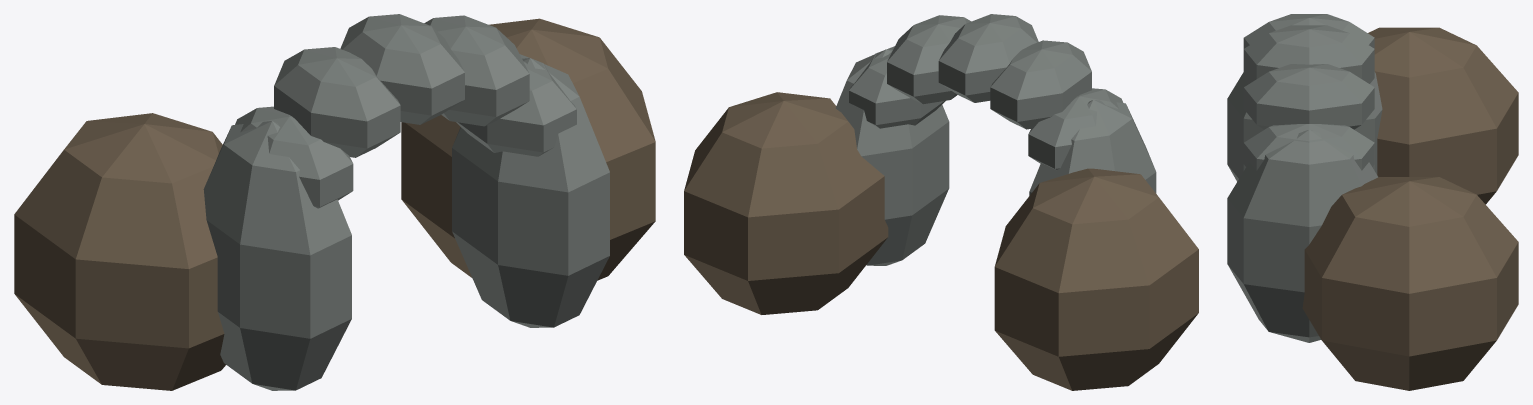
File: landscape-cave.lod0.glb
3 views of the same model, side by side, from view 1: azimuth 30°, elevation 25°; view 2: azimuth 150°, elevation 25°; view 3: azimuth 270°, elevation 25° (orthographic). The views are drawn at different scales.
Parts seen in each view (by area): view 1: landscape-cave__body; view 2: landscape-cave__body; view 3: landscape-cave__body.
Boxes of the visible parts, x1,y1,x2,y2 form: landscape-cave__body: (14, 14, 655, 390); landscape-cave__body: (684, 14, 1198, 390); landscape-cave__body: (1227, 14, 1518, 390).
Size of the model in its own units: 9.25 by 5.25 by 4.95.
